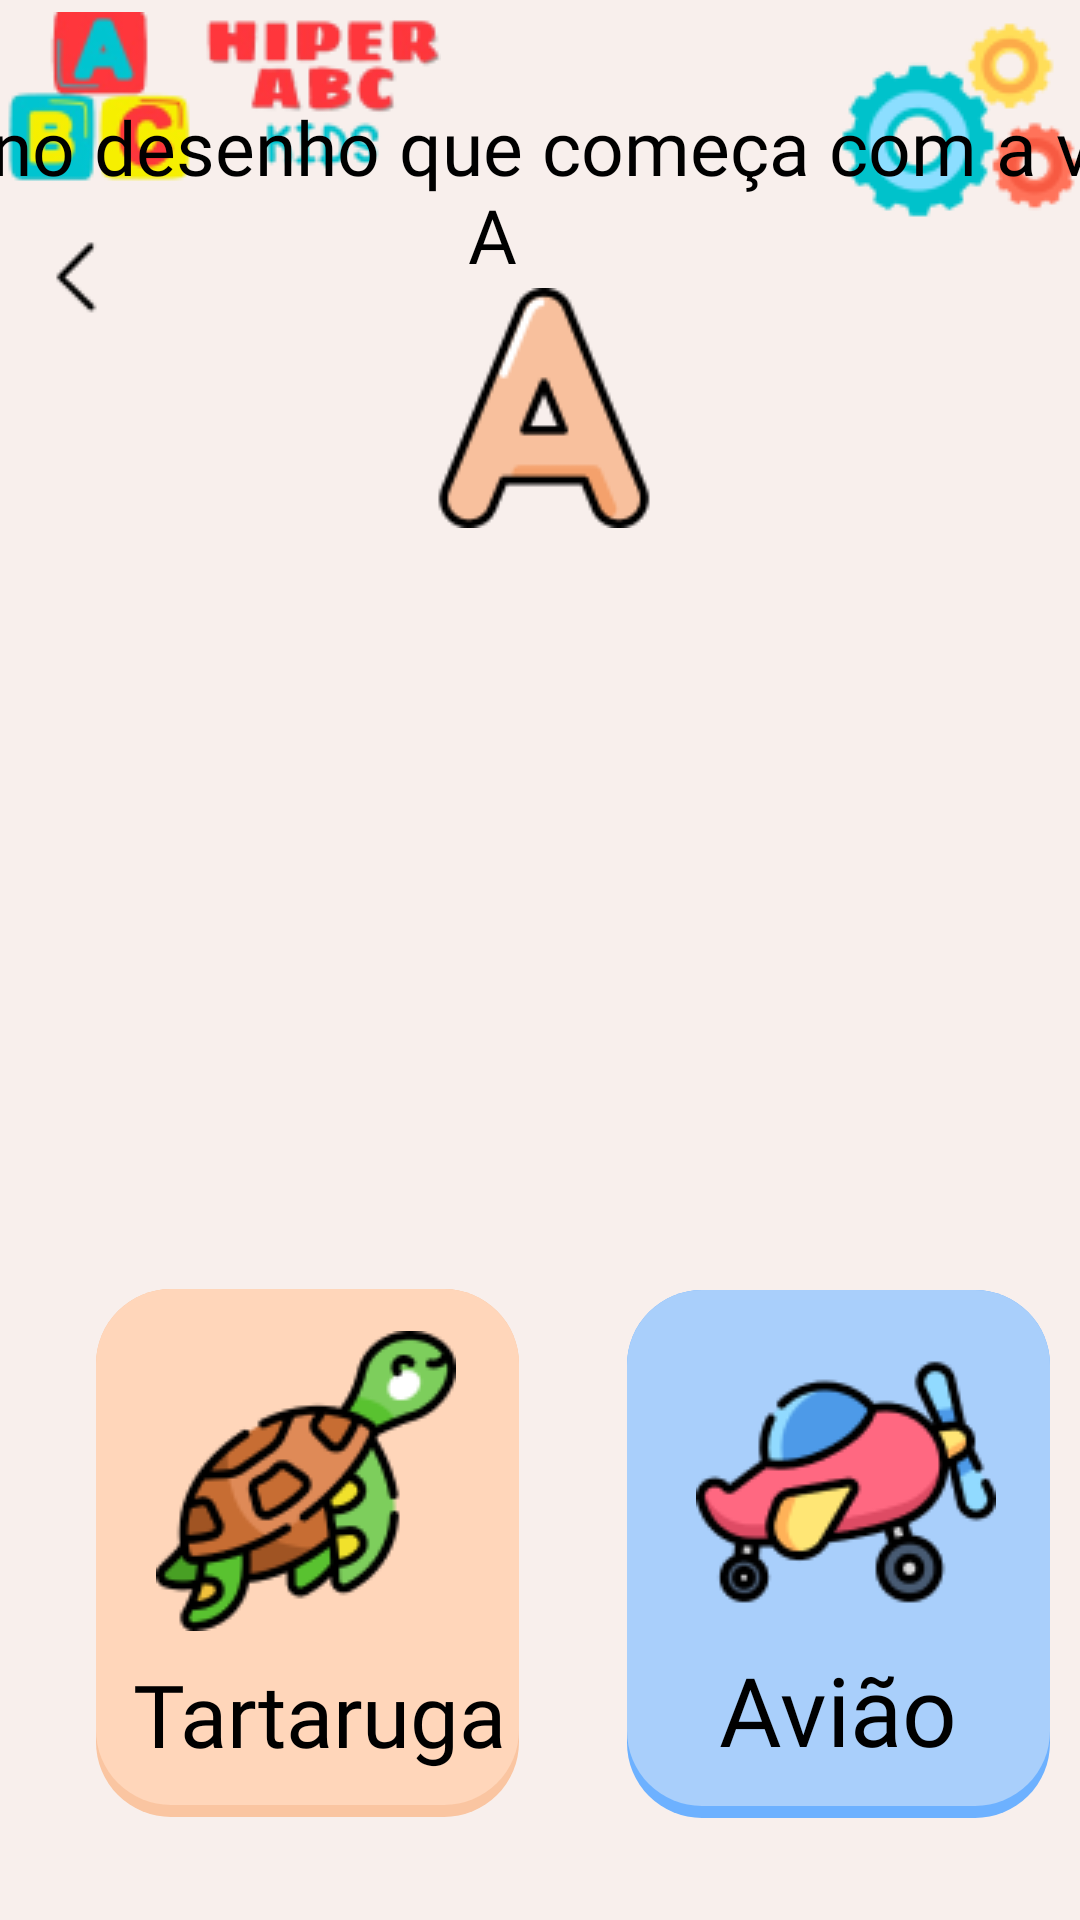

Locate icon controls on the screen. Image size 1080px x 1920px, boxes as (x1, y1, x2, y2).
letra: (438, 288, 650, 528)
seta voltar: (56, 242, 97, 313)
